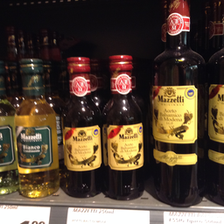vinegar: (152, 1, 204, 208), (102, 54, 147, 201), (15, 59, 58, 197), (62, 56, 102, 198)
